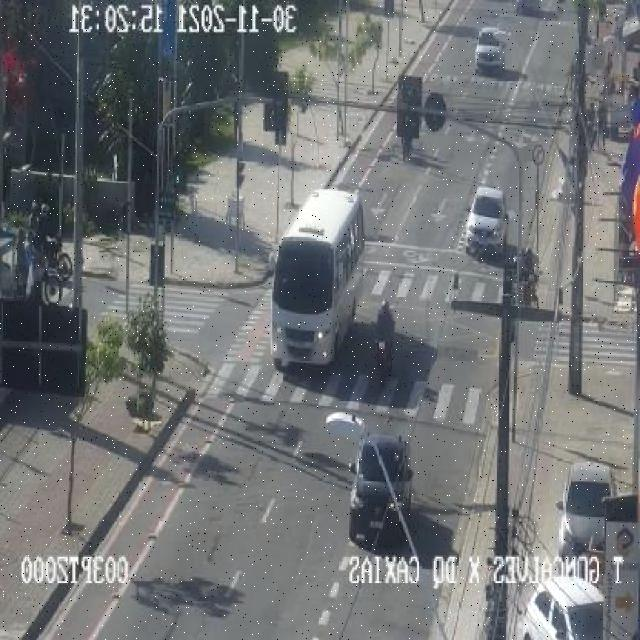Bus: (268, 184, 366, 374)
Car: (348, 432, 413, 545), (516, 576, 607, 639), (558, 462, 616, 556), (464, 186, 508, 258), (474, 27, 507, 74), (515, 0, 546, 16)
Cycle: (15, 262, 65, 306), (43, 236, 74, 279), (373, 333, 395, 392)
